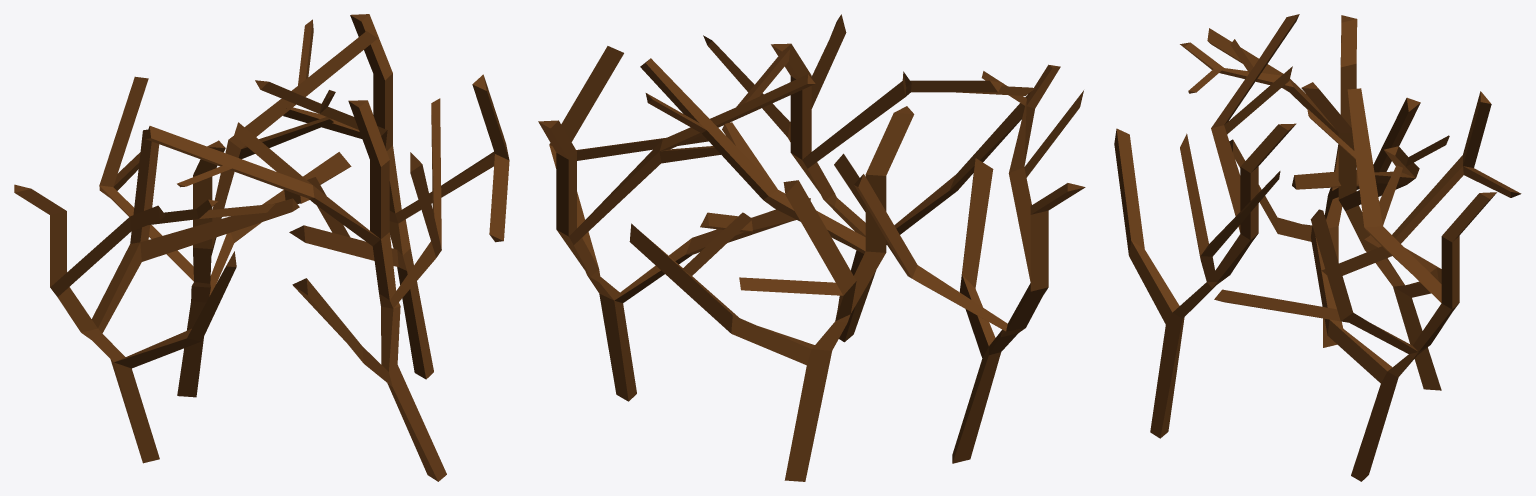
File: vaike poosas surnud.fbx
3 renders of one model, left to right at view 1: azimuth 30°, elevation 25°; view 2: azimuth 150°, elevation 25°; view 3: azimuth 270°, elevation 25°, orthographic. The views are drawn at different scales.
Visible parts, largest first — view 1: üksikpoosassurnud; view 2: üksikpoosassurnud; view 3: üksikpoosassurnud.
Boxes of the visible parts, box(x1,y1,x2,y2) form: üksikpoosassurnud: box(14, 14, 509, 481); üksikpoosassurnud: box(538, 14, 1085, 481); üksikpoosassurnud: box(1114, 14, 1521, 481).
Size of the model in its own units: 152 by 102 by 116.
